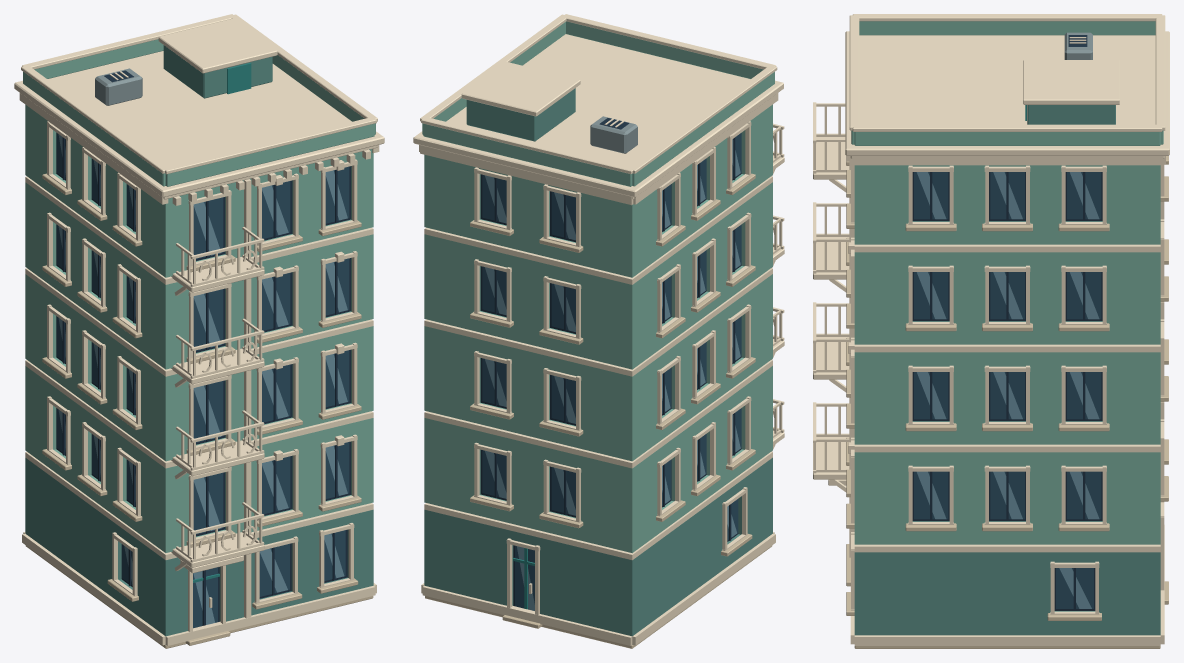
File: skinny_apartments.glb
3 renders of one model, left to right at view 1: azimuth 30°, elevation 25°; view 2: azimuth 150°, elevation 25°; view 3: azimuth 270°, elevation 25°, orthographic. The views are drawn at different scales.
Parts seen in each view (by area): view 1: SkinnyApartments_StaticMesh; view 2: SkinnyApartments_StaticMesh; view 3: SkinnyApartments_StaticMesh.
Part boxes in pixels (x1=…): SkinnyApartments_StaticMesh: x1=14, y1=14, x2=384, y2=648; SkinnyApartments_StaticMesh: x1=413, y1=14, x2=784, y2=648; SkinnyApartments_StaticMesh: x1=813, y1=14, x2=1169, y2=648.
Size of the model in its own units: 7.87 by 16.74 by 10.03.
